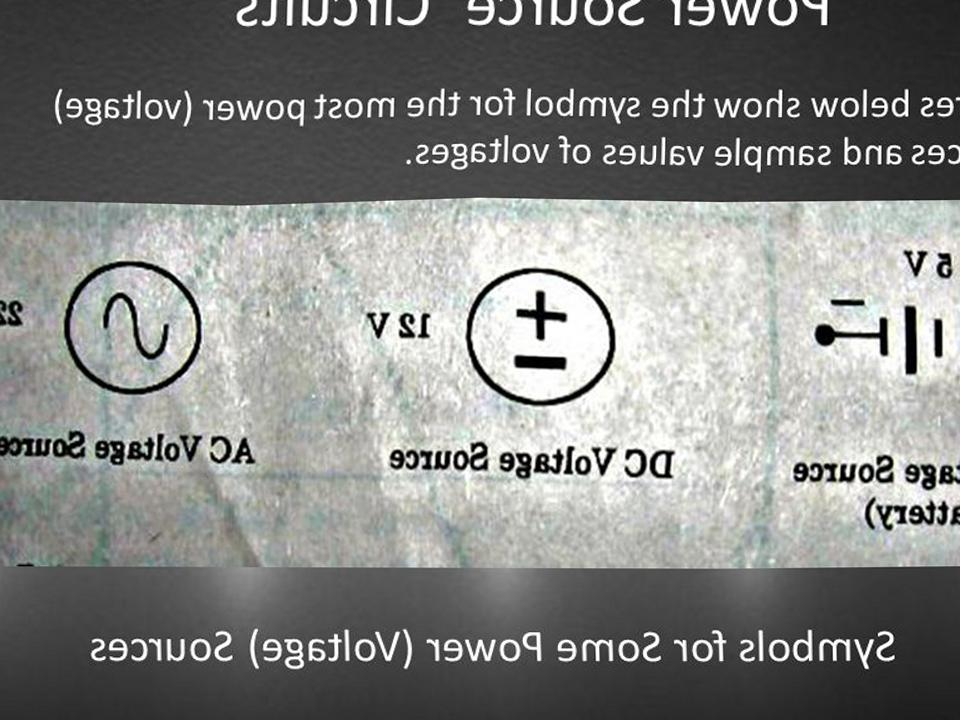Battery: (440, 239, 641, 428)
